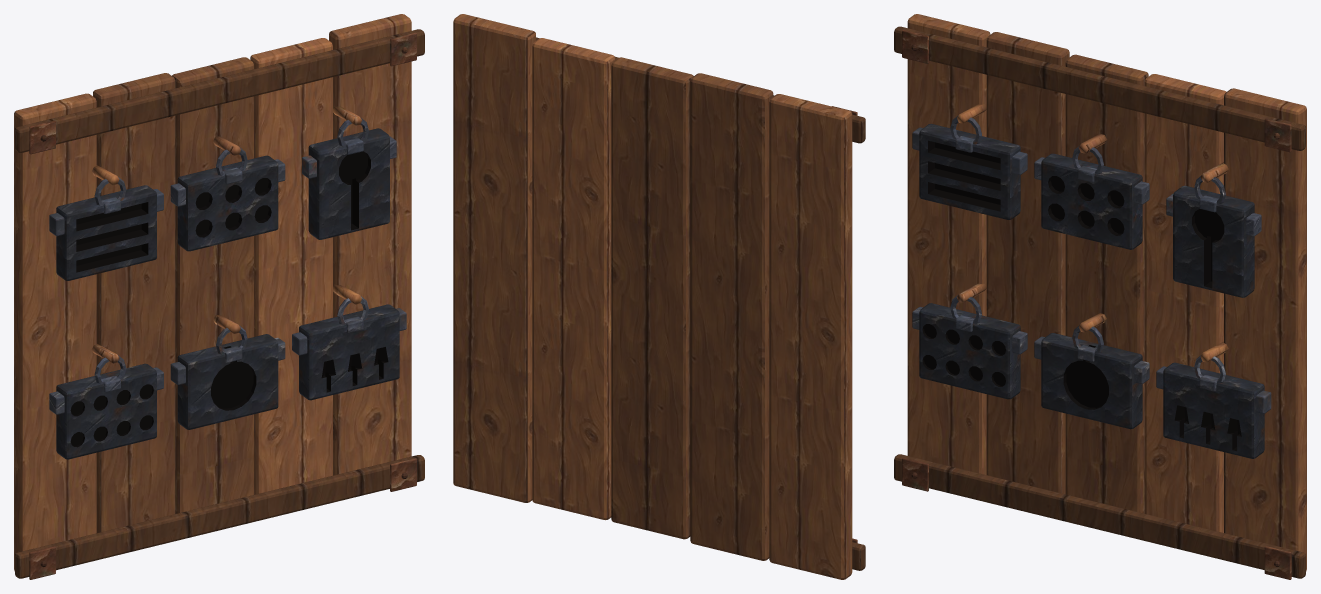
File: cf_mould_board.glb
3 views of the same model, side by side, from view 1: azimuth 30°, elevation 25°; view 2: azimuth 150°, elevation 25°; view 3: azimuth 330°, elevation 25° (orthographic).
Parts seen in each view (by area): view 1: model; view 2: model; view 3: model.
Boxes of the visible parts, x1=… form: model: x1=14, y1=14, x2=424, y2=579; model: x1=453, y1=14, x2=865, y2=579; model: x1=894, y1=14, x2=1306, y2=579.
Bounding box in the file's own units: 1.24 × 1.36 × 0.1514.
9 materials, 8 textured.
